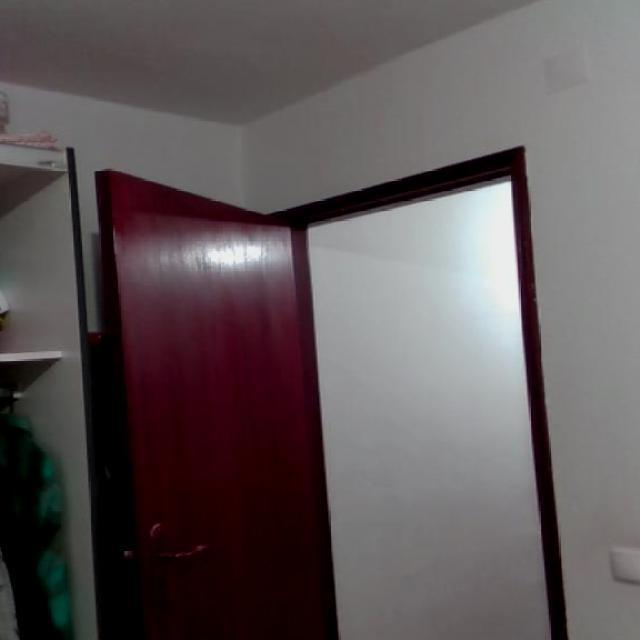door: (83, 146, 353, 640)
